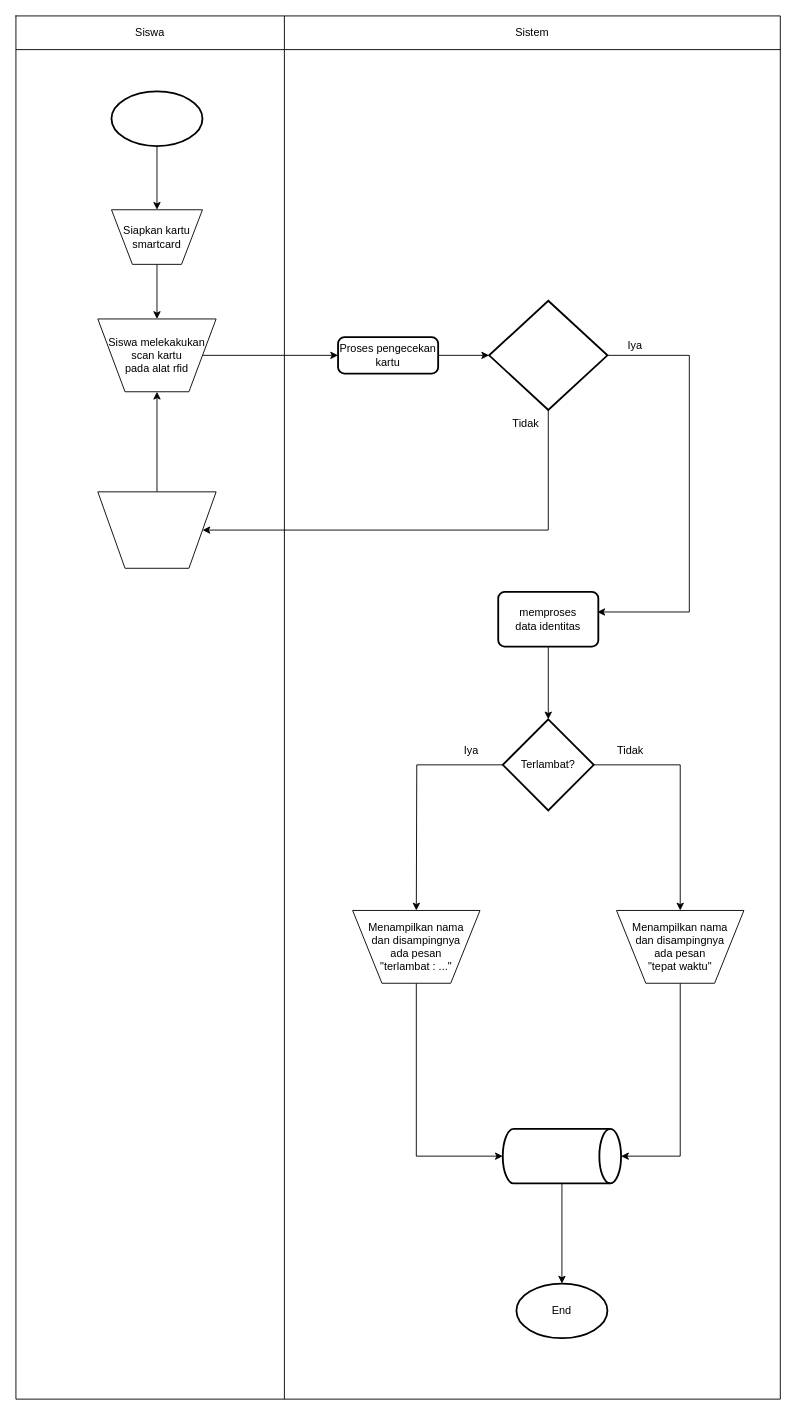
Image size: 796x1415. Some labels were removed from this diagram. The shapes that lost their labels are listed below. From the top down, each one's box as (x1, y1, x2, y2) in pixels, then its label:
(110, 90, 203, 147): Start
(488, 299, 608, 410): Valid/tidak
(97, 491, 216, 568): Siswa mendapat notif dari alat data valid/tidak
(501, 1127, 622, 1184): Simpan data
